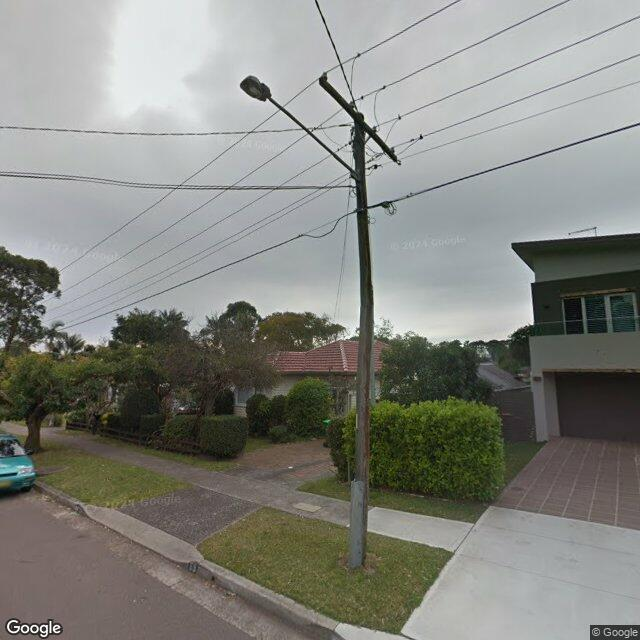crossarm: (318, 76, 400, 167)
streetlight: (240, 74, 360, 180)
timber-pole: (346, 113, 375, 568)
